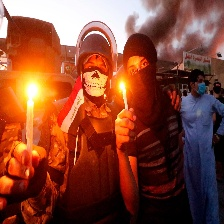fire: (23, 81, 40, 100), (117, 80, 127, 92)
smoke: (129, 1, 223, 49)
